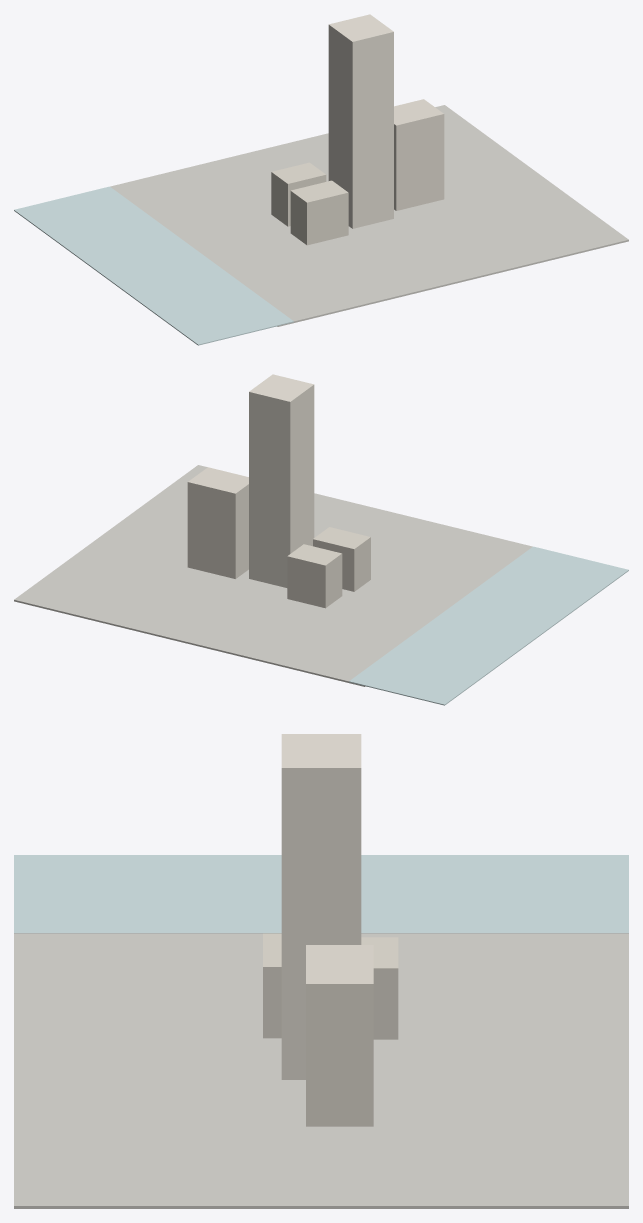
File: ashira-massing.glb
3 renders of one model, top to bottom at view 1: azimuth 30°, elevation 25°; view 2: azimuth 150°, elevation 25°; view 3: azimuth 270°, elevation 25°, orthographic. The views are drawn at different scales.
Parts seen in each view (by area): view 1: world; view 2: world; view 3: world.
Boxes of the visible parts, x1=… form: world: x1=14, y1=14, x2=628, y2=345; world: x1=14, y1=374, x2=628, y2=705; world: x1=14, y1=734, x2=628, y2=1208.
Bounding box in the file's own units: 270 × 113 × 200.
